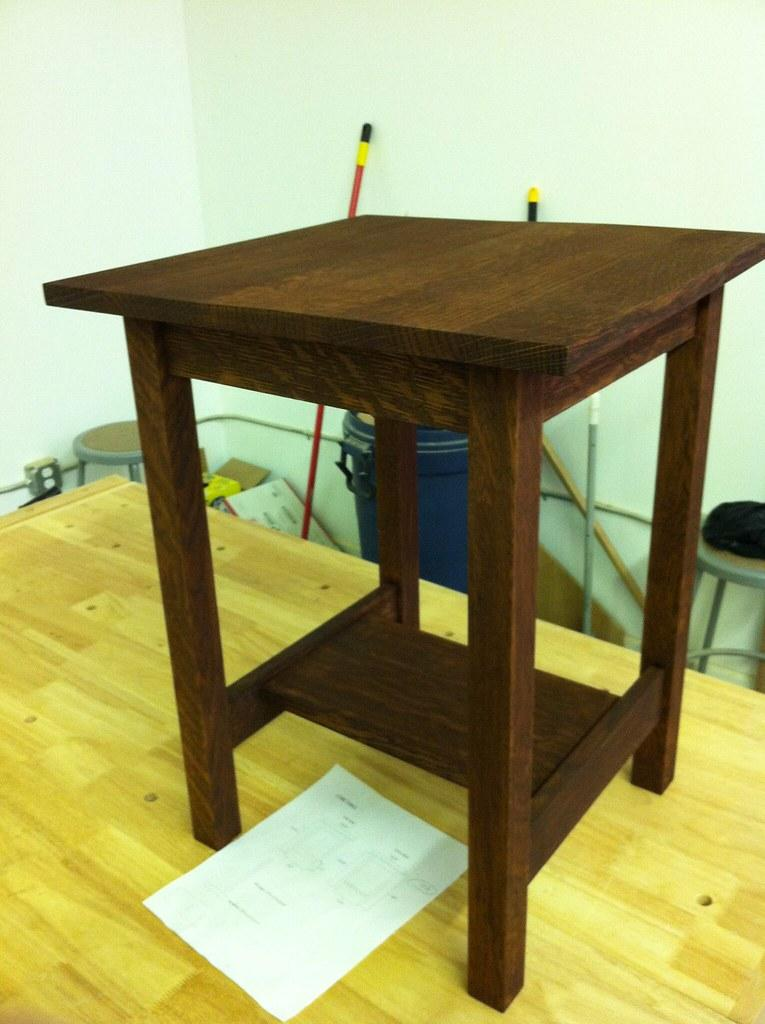table: (34, 200, 765, 1024)
